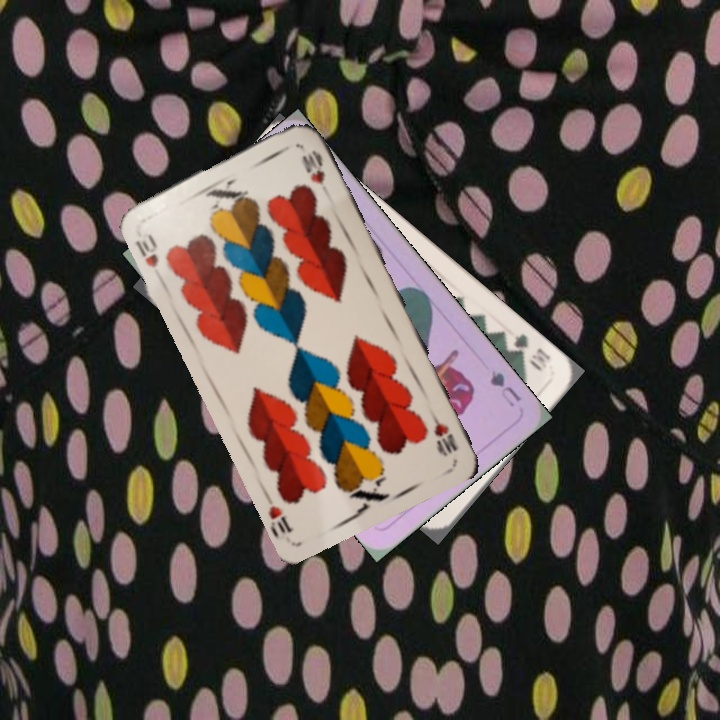G10: (500, 329, 554, 373)
GU: (485, 366, 524, 410)
H10: (424, 405, 460, 458), (132, 230, 162, 270)
